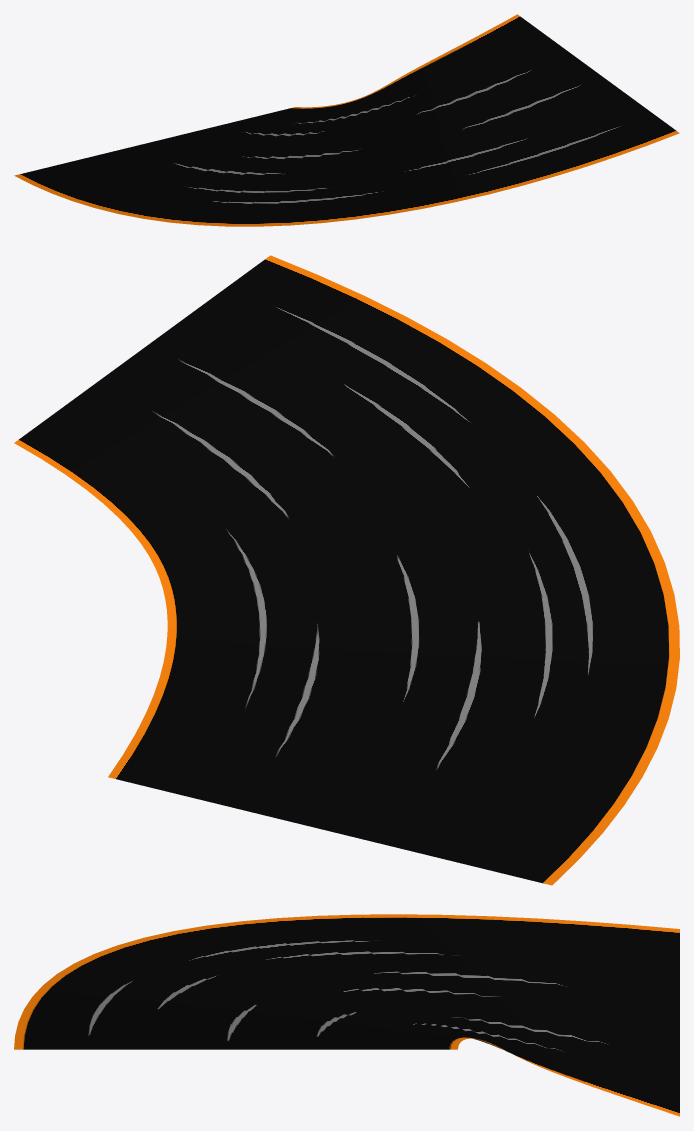
The model's file is TrackTurnFullIncline.fbx.
3 renders of one model, top to bottom at view 1: azimuth 30°, elevation 25°; view 2: azimuth 150°, elevation 25°; view 3: azimuth 270°, elevation 25°, orthographic. The views are drawn at different scales.
Parts seen in each view (by area): view 1: TurnFullIncline; view 2: TurnFullIncline; view 3: TurnFullIncline.
Boxes of the visible parts, box(x1,y1,x2,y2) form: TurnFullIncline: box(14, 14, 679, 226); TurnFullIncline: box(14, 255, 679, 885); TurnFullIncline: box(14, 914, 679, 1116).
Size of the model in its own units: 150 by 40.01 by 150.
